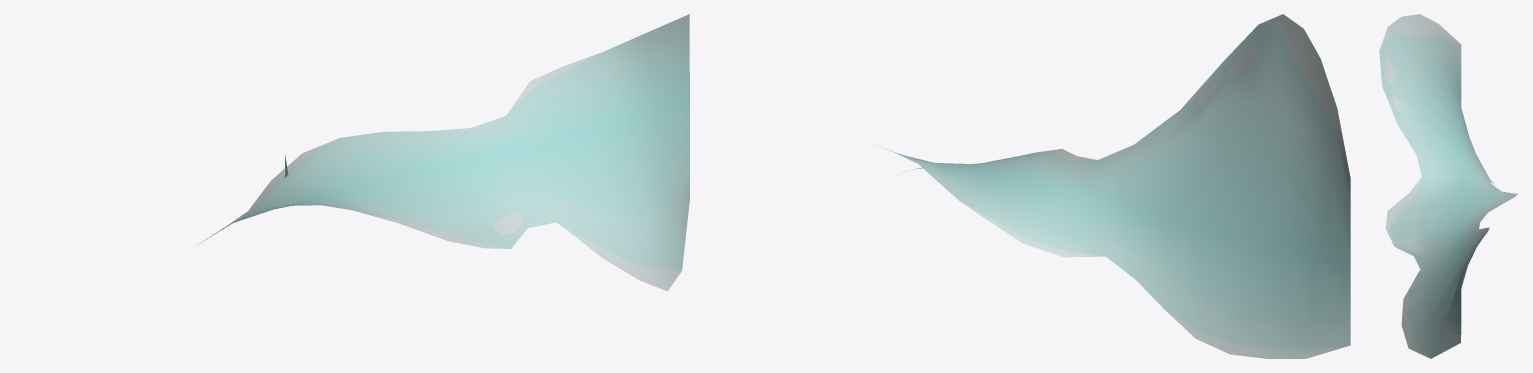
Rendered from WaveWipeWavesReverse.glb.
The picture shows the model from 3 angles, left to right: view 1: azimuth 30°, elevation 25°; view 2: azimuth 150°, elevation 25°; view 3: azimuth 270°, elevation 25°; orthographic projection. The views are drawn at different scales.
Visible parts, largest first — view 1: WaveWipeWavesReverse; view 2: WaveWipeWavesReverse; view 3: WaveWipeWavesReverse.
Boxes of the visible parts, x1=… form: WaveWipeWavesReverse: x1=198, y1=14, x2=689, y2=291; WaveWipeWavesReverse: x1=880, y1=14, x2=1350, y2=358; WaveWipeWavesReverse: x1=1379, y1=14, x2=1517, y2=358.
Size of the model in its own units: 1.87 by 0.8626 by 0.5763.
